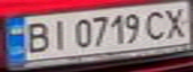0: (69, 15, 93, 48)
1: (109, 11, 127, 46)
7: (90, 14, 112, 47)
9: (121, 10, 145, 44)
B: (18, 19, 54, 54)
C: (142, 7, 169, 42)
I: (45, 17, 72, 51)
X: (160, 5, 193, 39)
